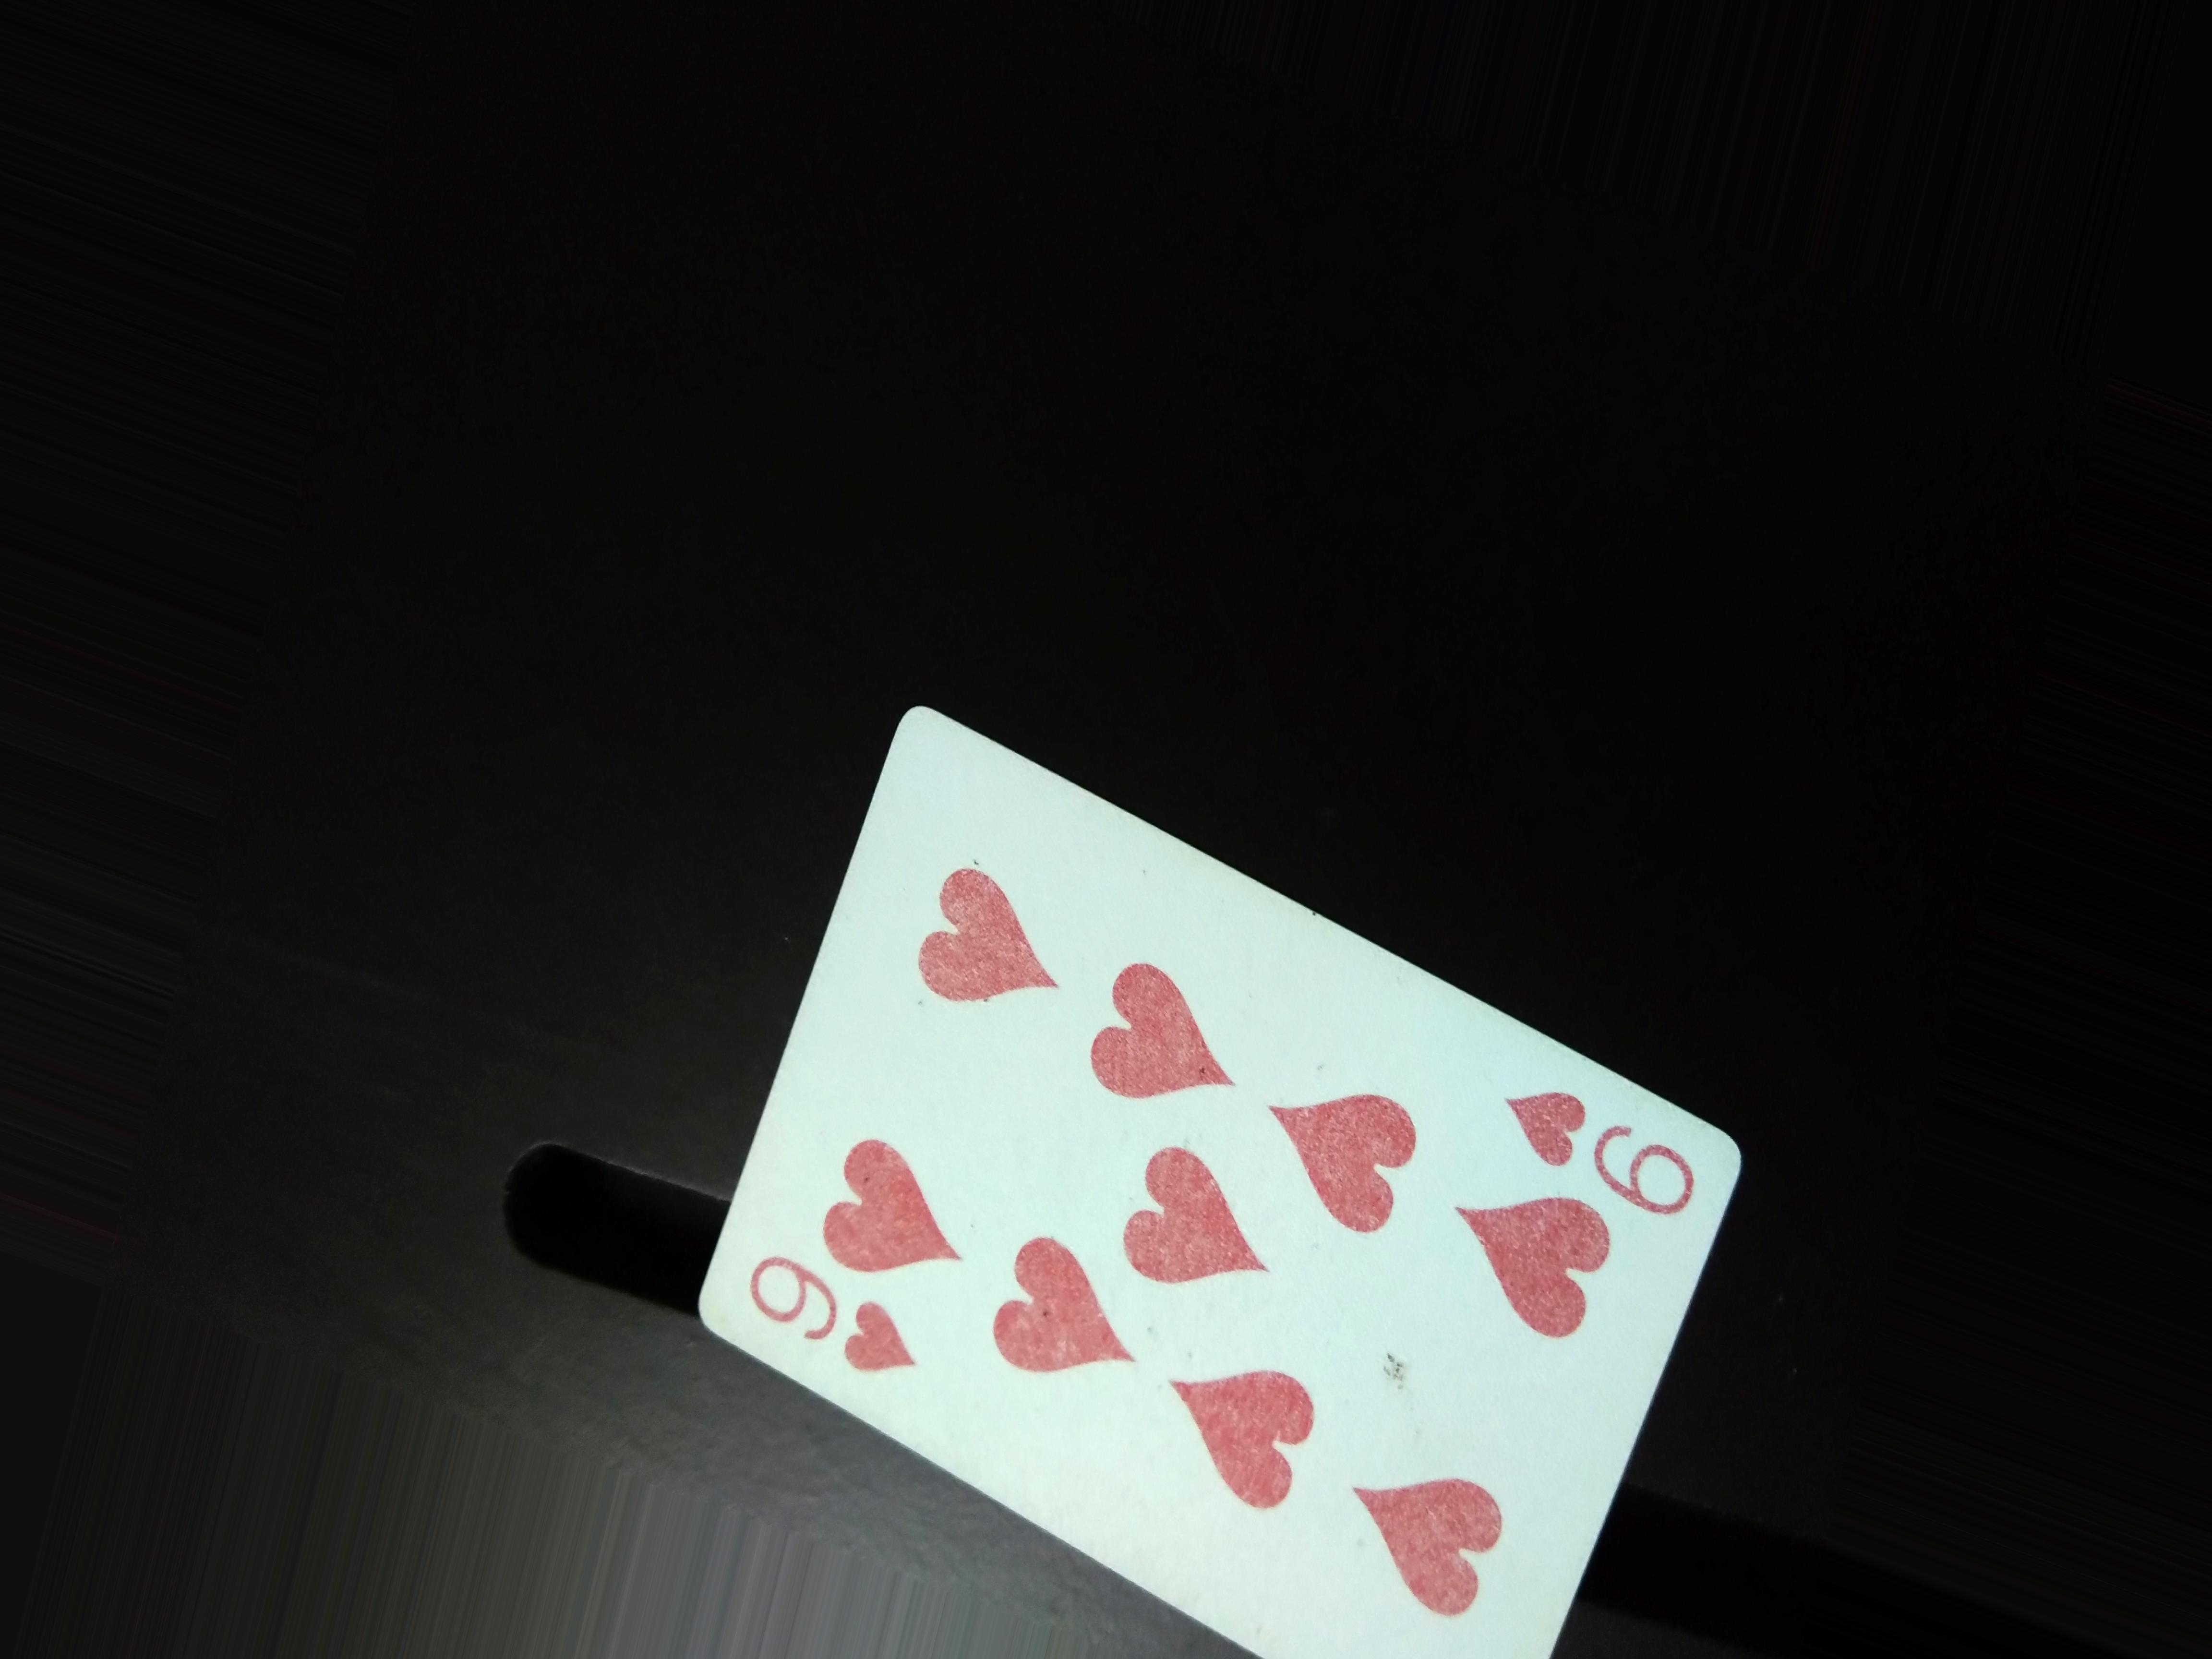9H: (744, 1241, 928, 1392)
